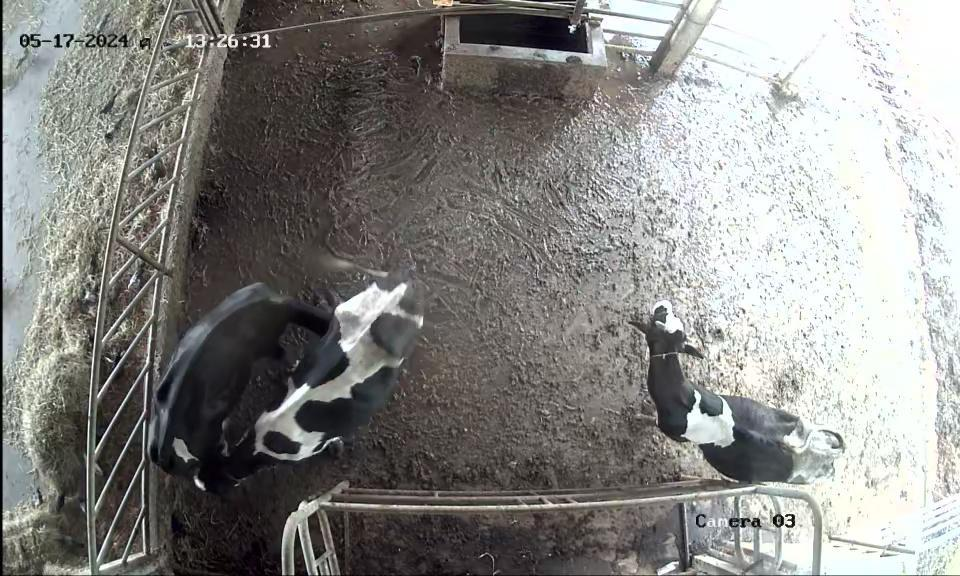stand: (199, 281, 432, 491), (611, 293, 858, 488), (138, 271, 321, 484)
